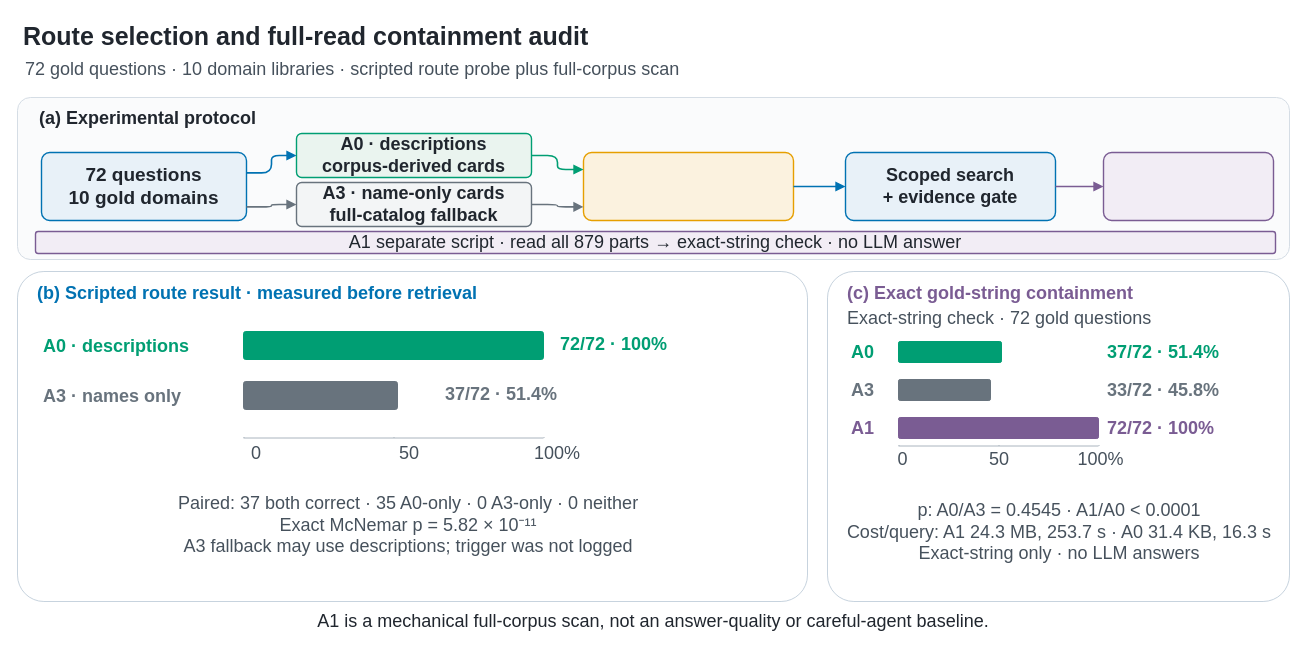
Image size: 1307x652. Some labels were removed from this diagram. The box of each missing label's shape, as (x1, y1, x2, y2) in pixels:
Evidence pack exact-string check: (1102, 151, 1274, 221)
Scripted route card top-1 / fallback: (582, 151, 794, 221)
